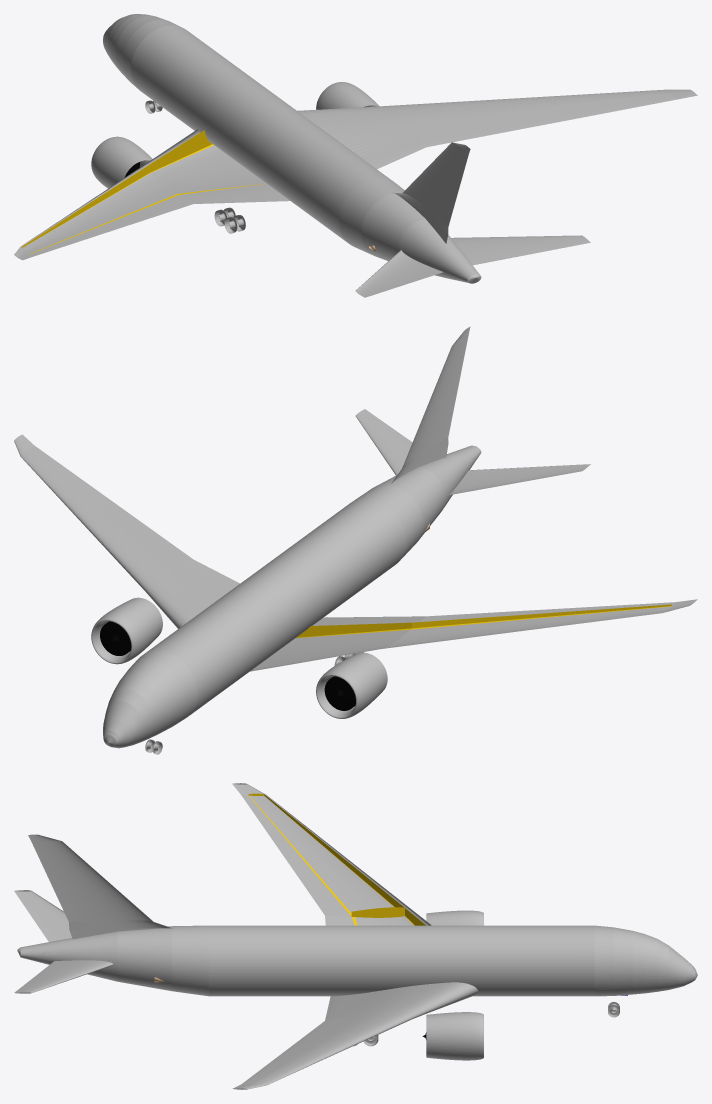
Rendered from Boeing_787.gltf.
The picture shows the model from 3 angles, top to bottom: view 1: azimuth 30°, elevation 25°; view 2: azimuth 150°, elevation 25°; view 3: azimuth 270°, elevation 25°; orthographic projection. The views are drawn at different scales.
Visible parts, largest first — view 1: Renderer Node; view 2: Renderer Node; view 3: Renderer Node.
Boxes of the visible parts, bbox=[...] form: Renderer Node: bbox=[14, 14, 697, 297]; Renderer Node: bbox=[14, 326, 697, 754]; Renderer Node: bbox=[14, 783, 697, 1089].
Size of the model in its own units: 60.12 by 16.7 by 56.95.
